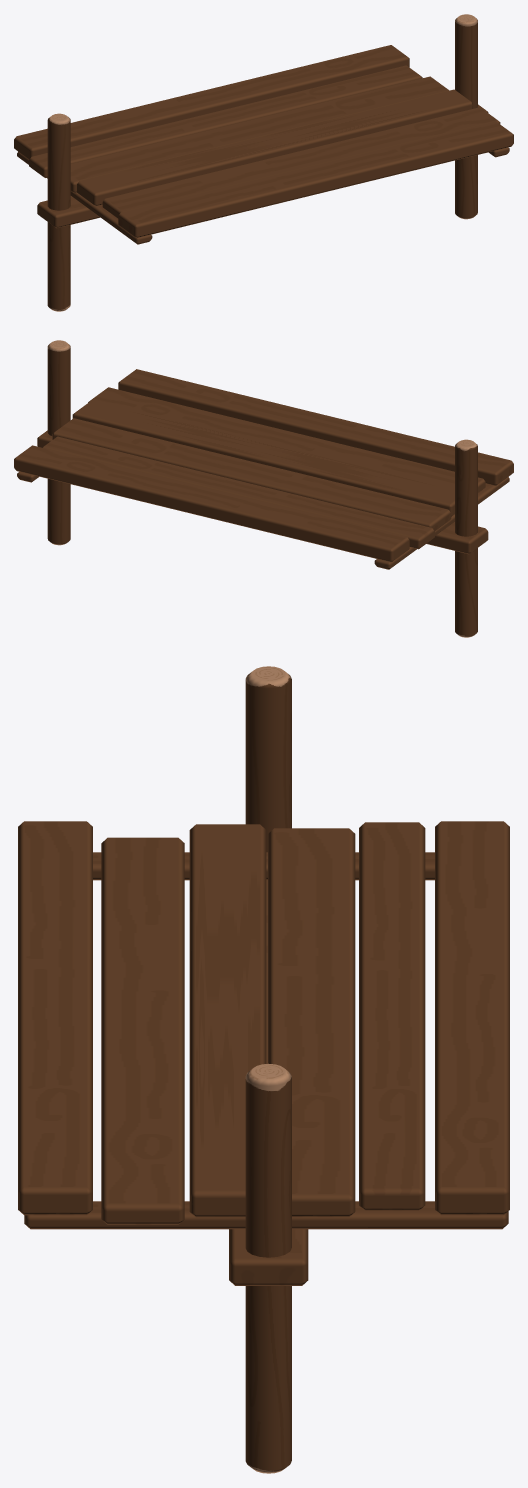
File: M_Wide_Medium_1.fbx
3 views of the same model, one above another, from view 1: azimuth 30°, elevation 25°; view 2: azimuth 150°, elevation 25°; view 3: azimuth 270°, elevation 25° (orthographic). The views are drawn at different scales.
Visible parts, largest first — view 1: M_Wide_Medium_1; view 2: M_Wide_Medium_1; view 3: M_Wide_Medium_1.
Boxes of the visible parts, x1,y1,x2,y2 form: M_Wide_Medium_1: (14,14,513,311); M_Wide_Medium_1: (14,340,513,637); M_Wide_Medium_1: (18,666,509,1473).
Bounding box in the file's own units: 800 × 348 × 392.
